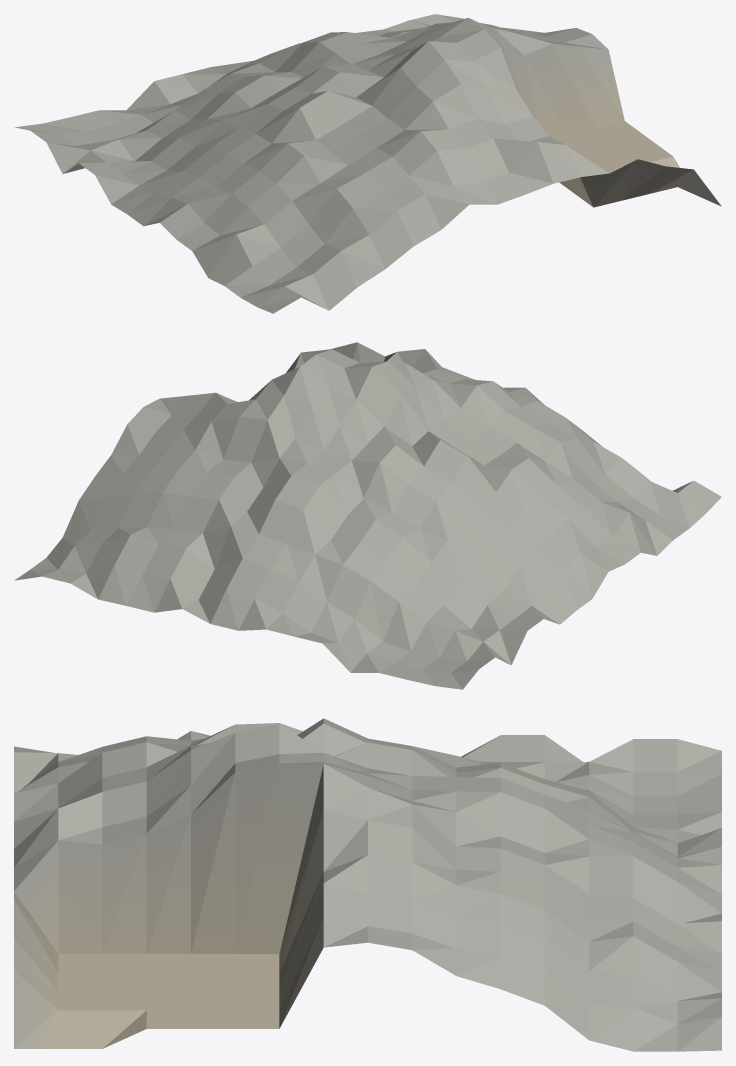
The picture shows the model from 3 angles, top to bottom: view 1: azimuth 30°, elevation 25°; view 2: azimuth 150°, elevation 25°; view 3: azimuth 270°, elevation 25°; orthographic projection. The views are drawn at different scales.
Bounding box in the file's own units: 32 × 10.51 × 32.
